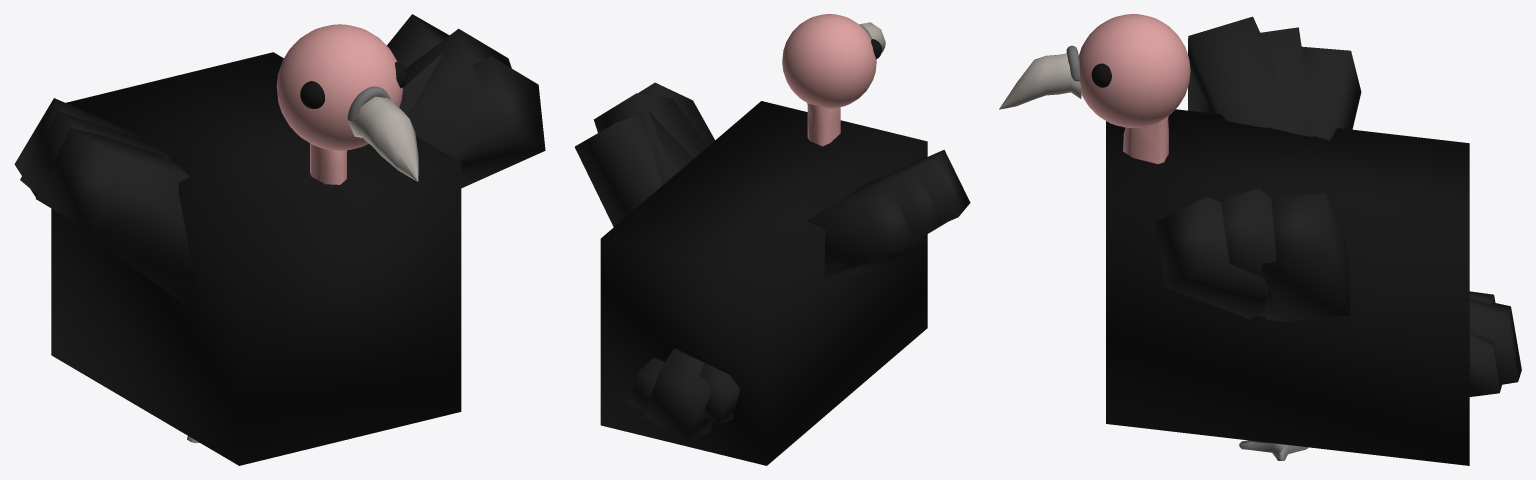
Rendered from Zopilote1.glb.
3 renders of one model, left to right at view 1: azimuth 30°, elevation 25°; view 2: azimuth 150°, elevation 25°; view 3: azimuth 270°, elevation 25°, orthographic. The views are drawn at different scales.
Parts seen in each view (by area): view 1: Cube, Cube.009, Sphere, Cube.006, Cube.003, Cylinder.001, Cube.008, Cube.007, Cube.001, Cylinder, Sphere.001, Torus.001; view 2: Cube, Sphere, Cube.001, Cube.007, Cube.002, Cube.003, Cube.009, Cube.008, Cube.004, Cylinder, Cube.006, Cube.005; view 3: Cube, Sphere, Cube.001, Cube.009, Cube.006, Cube.007, Cube.003, Cube.008, Cube.002, Cylinder.001, Cube.005, Cylinder (+1 smaller).
Part boxes in pixels (bbox=[...]): Cube: bbox=[51, 52, 461, 465]; Cube.009: bbox=[35, 128, 196, 289]; Sphere: bbox=[276, 24, 402, 150]; Cube.006: bbox=[427, 56, 545, 188]; Cube.003: bbox=[403, 28, 511, 142]; Cylinder.001: bbox=[349, 96, 418, 181]; Cube.008: bbox=[20, 111, 188, 293]; Cube.007: bbox=[14, 98, 184, 304]; Cube.001: bbox=[387, 14, 449, 115]; Cylinder: bbox=[310, 143, 346, 184]; Sphere.001: bbox=[300, 81, 324, 108]; Torus.001: bbox=[347, 86, 390, 120]; Cube: bbox=[600, 101, 927, 465]; Sphere: bbox=[782, 14, 876, 108]; Cube.001: bbox=[575, 111, 693, 226]; Cube.007: bbox=[806, 189, 923, 276]; Cube.002: bbox=[643, 348, 712, 441]; Cube.003: bbox=[593, 93, 706, 185]; Cube.009: bbox=[841, 149, 970, 223]; Cube.008: bbox=[816, 171, 946, 239]; Cube.004: bbox=[700, 362, 739, 424]; Cylinder: bbox=[807, 103, 840, 146]; Cube.006: bbox=[638, 82, 715, 175]; Cube.005: bbox=[627, 357, 664, 412]; Cube: bbox=[1106, 109, 1469, 465]; Sphere: bbox=[1079, 14, 1190, 127]; Cube.001: bbox=[1261, 193, 1350, 321]; Cube.009: bbox=[1188, 16, 1282, 127]; Cube.006: bbox=[1155, 197, 1268, 318]; Cube.007: bbox=[1301, 46, 1361, 140]; Cube.003: bbox=[1218, 188, 1278, 317]; Cube.008: bbox=[1260, 27, 1314, 136]; Cube.002: bbox=[1469, 299, 1521, 384]; Cylinder.001: bbox=[999, 53, 1081, 109]; Cube.005: bbox=[1469, 332, 1501, 396]; Cylinder: bbox=[1123, 116, 1168, 164].
Size of the model in its own units: 1.93 by 1.75 by 2.
